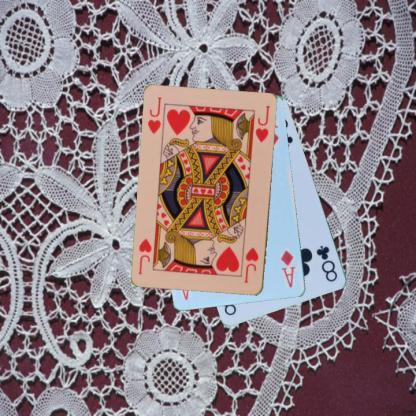8c: (314, 243, 339, 283)
Ad: (278, 247, 297, 289)
Jh: (145, 94, 164, 135), (242, 245, 260, 284)
